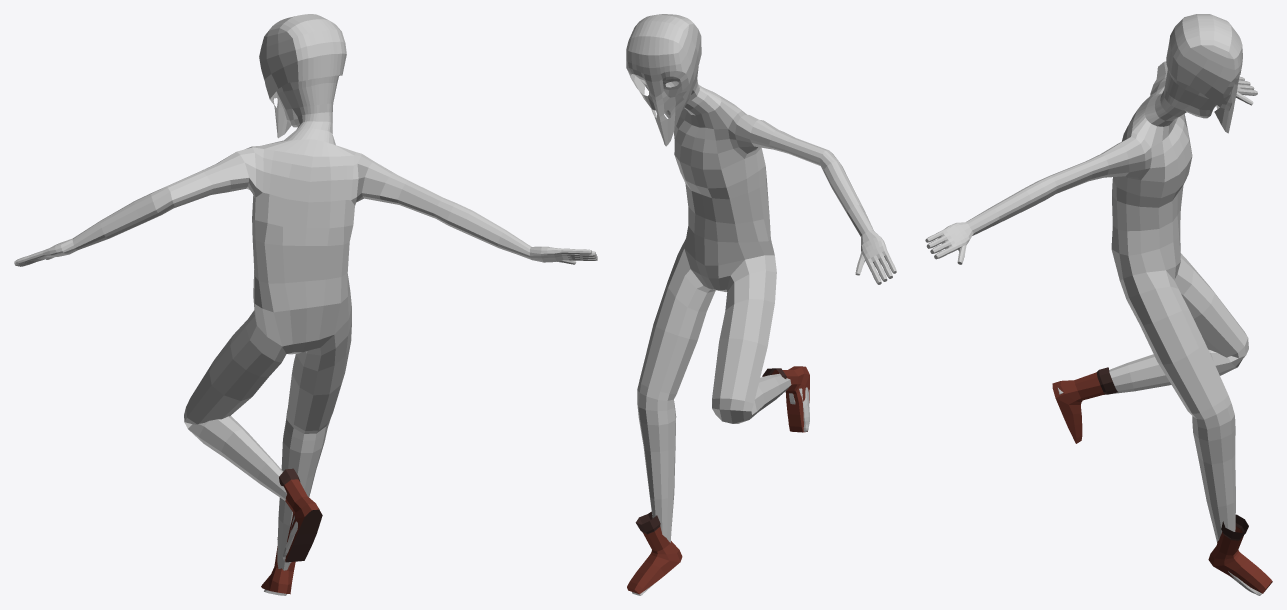
Rendered from saltoadelante_000124.obj.
3 views of the same model, side by side, from view 1: azimuth 30°, elevation 25°; view 2: azimuth 150°, elevation 25°; view 3: azimuth 270°, elevation 25° (orthographic). The views are drawn at different scales.
Parts seen in each view (by area): view 1: Plane.002_Plane.001, Plane.004; view 2: Plane.002_Plane.001, Plane.003, Plane.004; view 3: Plane.002_Plane.001, Plane.003, Plane.004.
Boxes of the visible parts, left/top/right/bottom form: Plane.002_Plane.001: left=14, top=14, right=597, bottom=595; Plane.004: left=279, top=468, right=322, bottom=562; Plane.002_Plane.001: left=626, top=14, right=896, bottom=595; Plane.003: left=627, top=511, right=682, bottom=594; Plane.004: left=762, top=366, right=809, bottom=432; Plane.002_Plane.001: left=925, top=14, right=1261, bottom=595; Plane.003: left=1208, top=514, right=1272, bottom=593; Plane.004: left=1052, top=367, right=1117, bottom=443.
Bounding box in the file's own units: 5.14 × 6.97 × 3.82.
